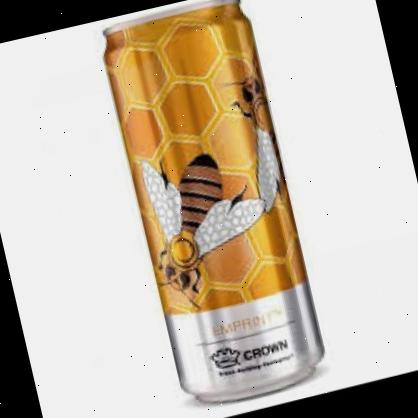can: (91, 0, 336, 418)
